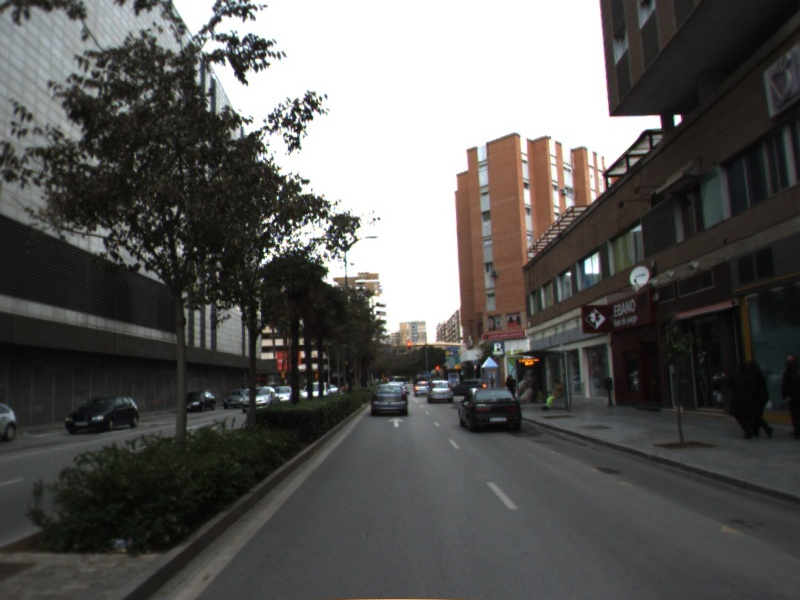STRAIGHT: (385, 415, 406, 429)
